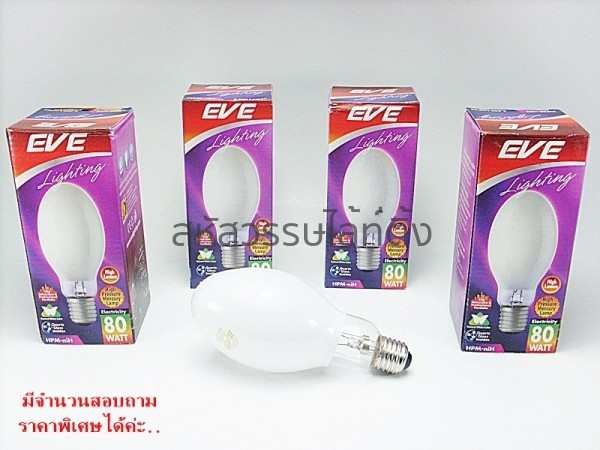Light_bulb: (185, 259, 420, 393)
